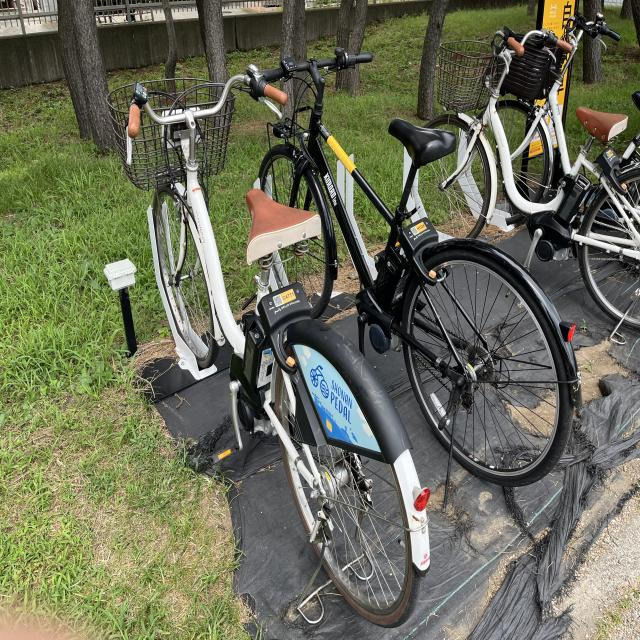basket: (104, 71, 237, 190), (436, 37, 509, 111), (506, 32, 570, 100)
battery: (239, 316, 274, 394), (375, 248, 406, 312), (556, 174, 592, 225)
